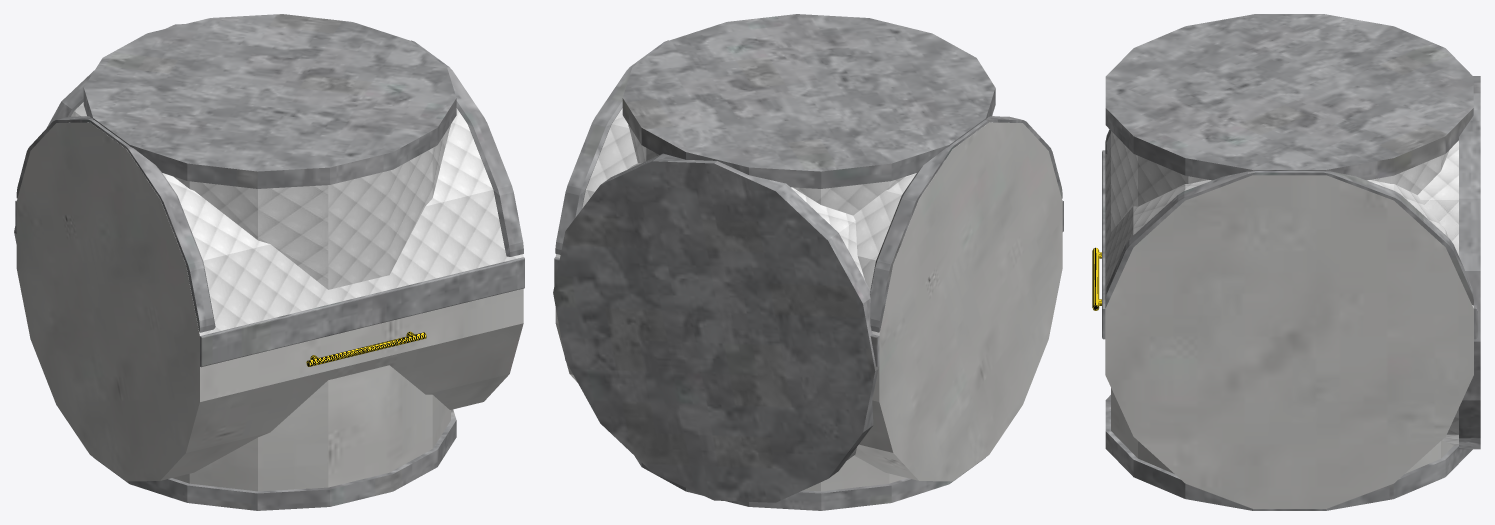
The model's file is Module-3-Centre-3.glb.
The picture shows the model from 3 angles, left to right: view 1: azimuth 30°, elevation 25°; view 2: azimuth 150°, elevation 25°; view 3: azimuth 270°, elevation 25°; orthographic projection.
Parts seen in each view (by area): view 1: Hull, Hull.003, Top, Hull.002, Hull.001, Hull Bars, Cylinder.002, Hull.004, Bar, Cylinder.003; view 2: Cylinder.003, Hull, Hull.003, Cylinder.002, Top, Hull.004, Hull.001, Hull.002, Cylinder.001; view 3: Hull, Hull.003, Cylinder.003, Hull.004, Hull.001, Cylinder.002, Top, Cylinder.001, Hull.002, Hull Bars, Bar.
Part boxes in pixels (x1,y1,x2,y2): Hull: [16, 122, 523, 481]; Hull.003: [83, 14, 456, 188]; Top: [69, 108, 523, 335]; Hull.002: [173, 365, 450, 491]; Hull.001: [174, 124, 450, 289]; Hull Bars: [15, 200, 524, 367]; Cylinder.002: [16, 40, 523, 332]; Hull.004: [93, 409, 456, 510]; Bar: [306, 331, 426, 366]; Cylinder.003: [14, 24, 184, 243]; Cylinder.003: [553, 153, 878, 502]; Hull: [555, 122, 1062, 481]; Hull.003: [622, 14, 995, 188]; Cylinder.002: [555, 40, 1062, 332]; Top: [555, 108, 1009, 335]; Hull.004: [635, 456, 985, 510]; Hull.001: [628, 124, 905, 215]; Hull.002: [803, 455, 906, 491]; Cylinder.001: [628, 162, 864, 460]; Hull: [1105, 175, 1473, 508]; Hull.003: [1105, 14, 1473, 180]; Cylinder.003: [1459, 76, 1480, 449]; Hull.004: [1105, 395, 1472, 510]; Hull.001: [1111, 131, 1449, 231]; Cylinder.002: [1105, 14, 1473, 305]; Top: [1105, 146, 1473, 308]; Cylinder.001: [1417, 140, 1458, 445]; Hull.002: [1111, 388, 1453, 473]; Hull Bars: [1102, 150, 1477, 339]; Bar: [1092, 247, 1101, 310].
Bounding box in the file's own units: 12 × 12.02 × 12.4.
5 materials, 5 textured.
